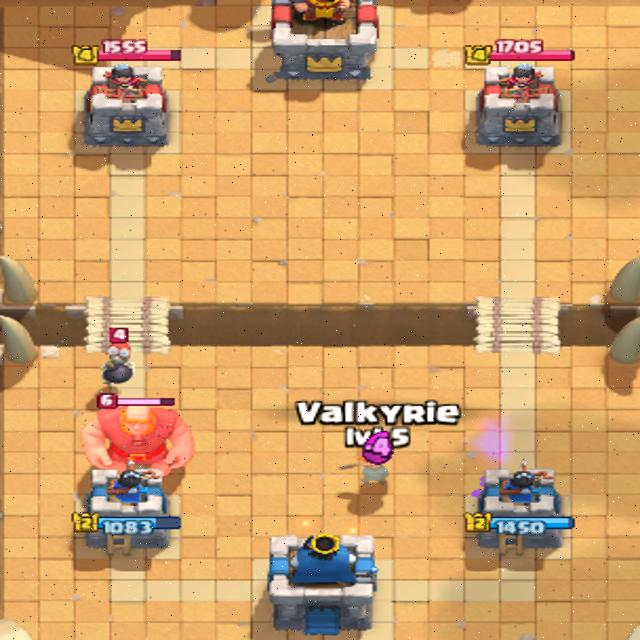EBomber: (101, 343, 134, 383)
EGiant: (83, 406, 193, 476)
EKingTower: (261, 0, 376, 88)
EnemyPrincessTower: (85, 63, 167, 146), (476, 62, 559, 144)
OwnKingTower: (268, 535, 378, 634)
OwnPrincessTower: (465, 463, 574, 554), (86, 470, 179, 554)
